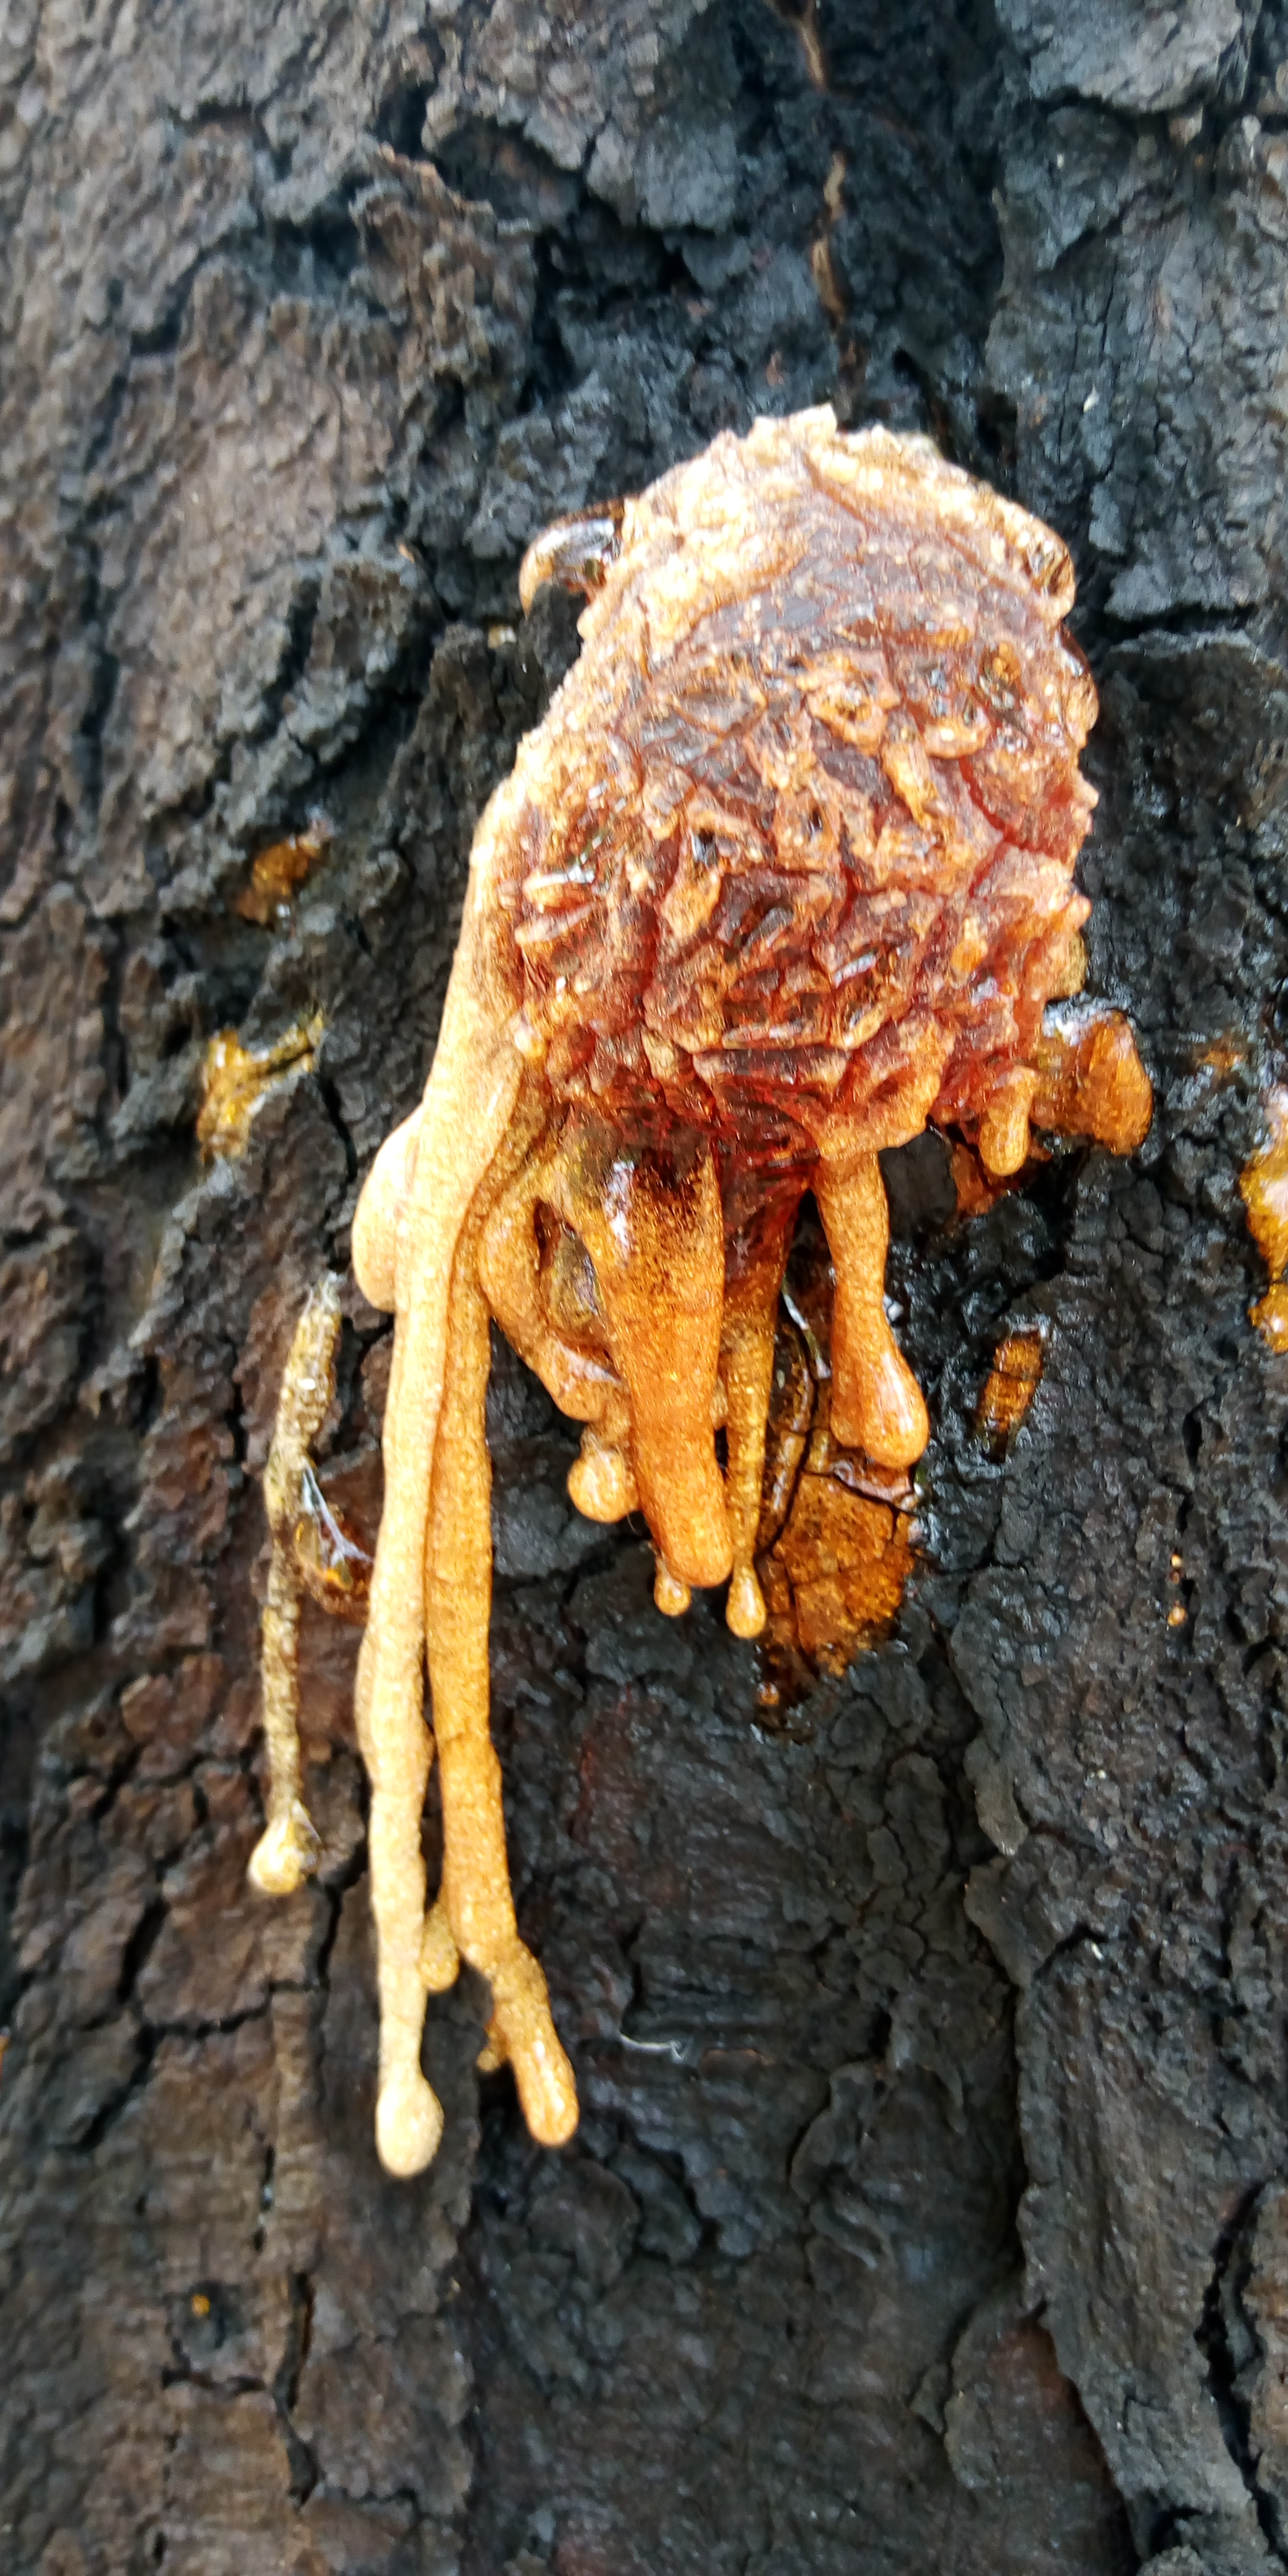Gommose: (317, 33, 1234, 2551)
